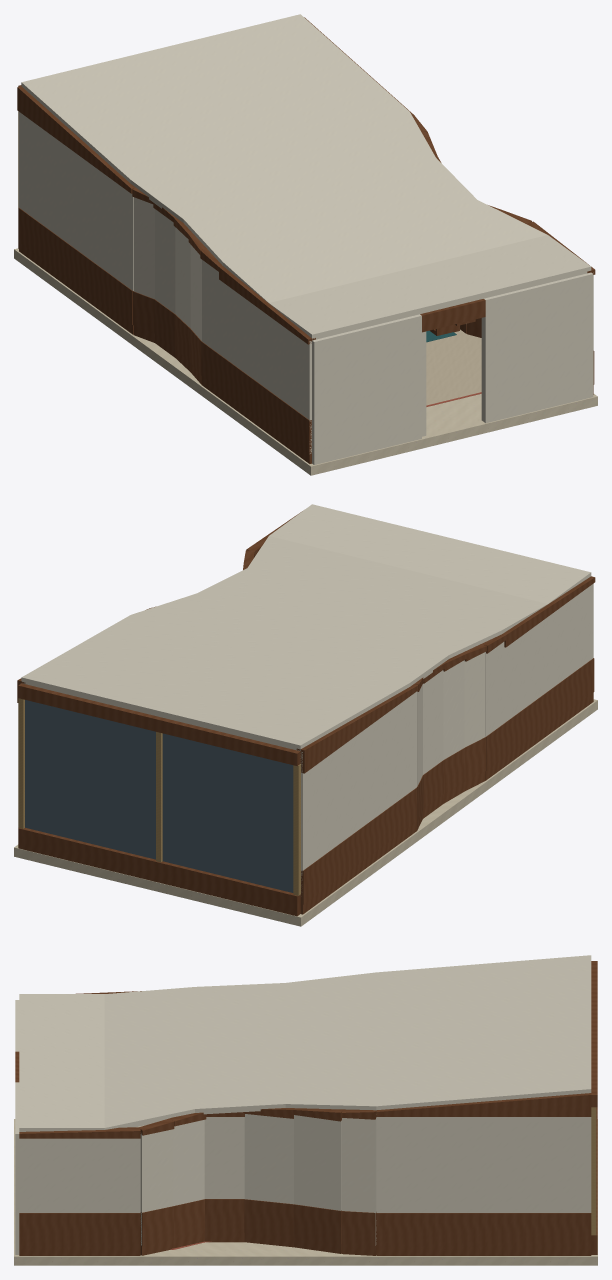
File: shell.glb
3 renders of one model, top to bottom at view 1: azimuth 30°, elevation 25°; view 2: azimuth 150°, elevation 25°; view 3: azimuth 270°, elevation 25°, orthographic.
Visible parts, largest first — view 1: SA_Runtime_ivory_enamel, SA_Runtime_warm_walnut, SA_Runtime_warm_stone, SA_Runtime_oatmeal_weave; view 2: SA_Runtime_ivory_enamel, SA_Runtime_SA_SourceDirectionalPrivacy_NOT_RUNTIME_ACCEPTED, SA_Runtime_warm_walnut, SA_Runtime_warm_stone, SA_Runtime_champagne_metal; view 3: SA_Runtime_ivory_enamel, SA_Runtime_warm_walnut, SA_Runtime_warm_stone, SA_Runtime_champagne_metal.
Boxes of the visible parts, x1,y1,x2,y2 form: SA_Runtime_ivory_enamel: (19,14,593,464); SA_Runtime_warm_walnut: (17,17,595,463); SA_Runtime_warm_stone: (14,248,597,475); SA_Runtime_oatmeal_weave: (426,329,481,405); SA_Runtime_ivory_enamel: (21,504,593,885); SA_Runtime_SA_SourceDirectionalPrivacy_NOT_RUNTIME_ACCEPTED: (25,700,293,892); SA_Runtime_warm_walnut: (17,511,595,916); SA_Runtime_warm_stone: (14,699,597,926); SA_Runtime_champagne_metal: (18,698,300,895); SA_Runtime_ivory_enamel: (15,955,591,1254); SA_Runtime_warm_walnut: (15,961,597,1255); SA_Runtime_warm_stone: (14,1119,597,1265); SA_Runtime_champagne_metal: (591,1107,596,1235).
Bounding box in the file's own units: 7.2 × 4.26 × 12.9.
Materials: 9 (7 with a texture image).
